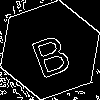B: (25, 25, 74, 79)
